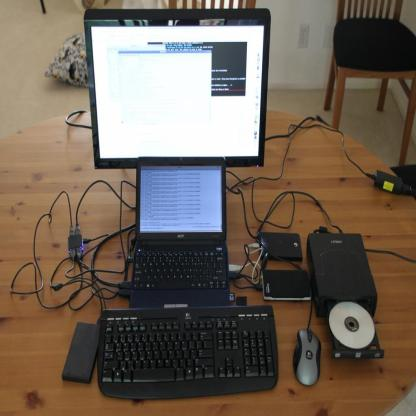board: (118, 155, 244, 329)
